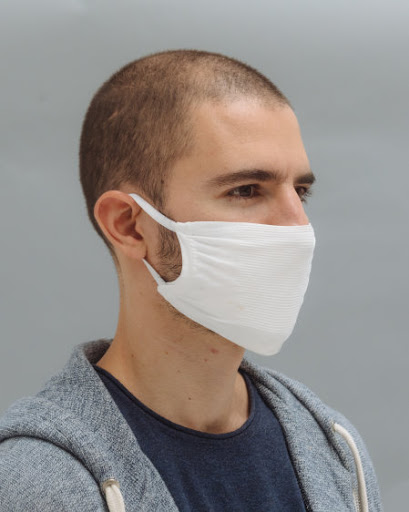barbijo: (118, 188, 318, 370)
